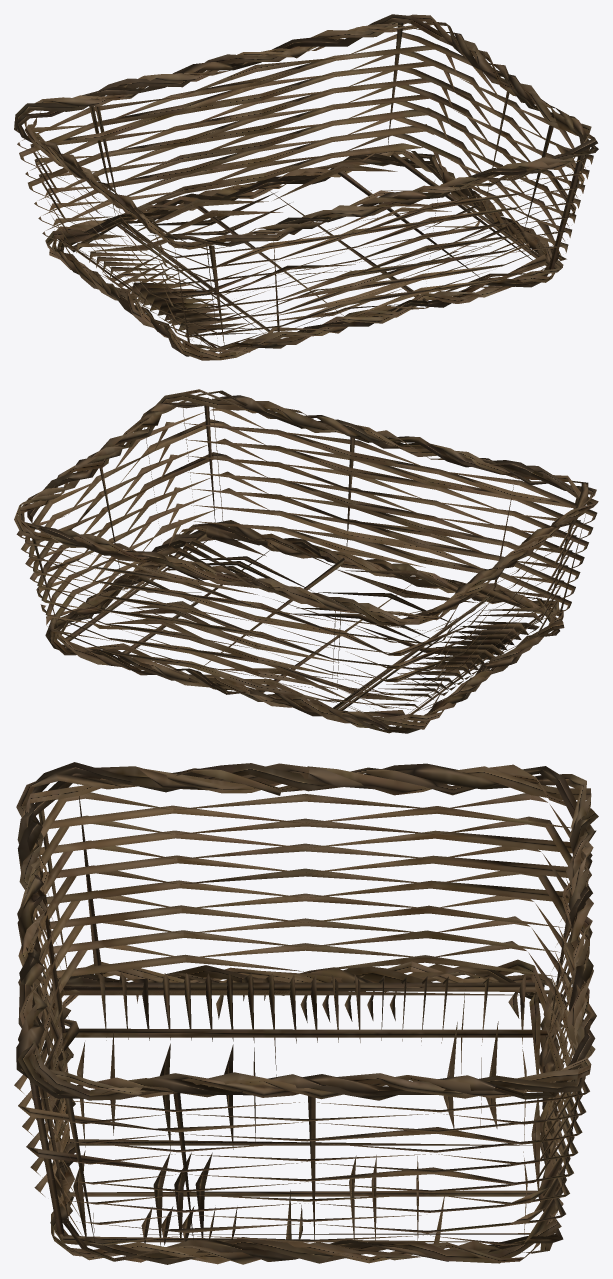
File: wicker_basket_01.glb
3 views of the same model, one above another, from view 1: azimuth 30°, elevation 25°; view 2: azimuth 150°, elevation 25°; view 3: azimuth 270°, elevation 25° (orthographic). The views are drawn at different scales.
Visible parts, largest first — view 1: wicker_basket_01; view 2: wicker_basket_01; view 3: wicker_basket_01.
Boxes of the visible parts, x1,y1,x2,y2 form: wicker_basket_01: [14, 14, 598, 360]; wicker_basket_01: [14, 389, 598, 733]; wicker_basket_01: [14, 762, 598, 1264].
Size of the model in its own units: 0.383 by 0.1174 by 0.2939.
1 material, 1 textured.
